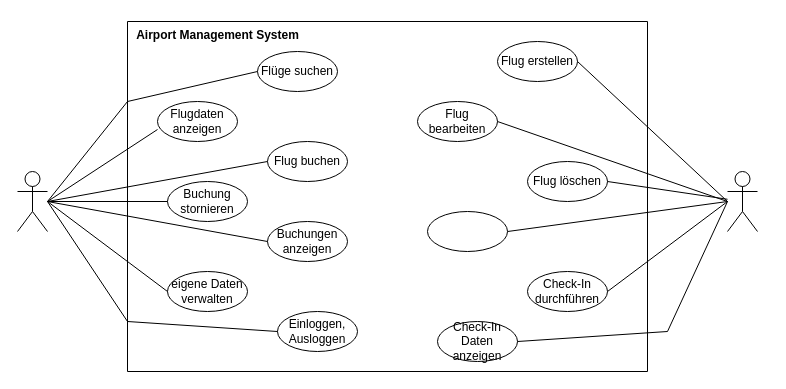
Image size: 786x389. Some labels were removed from this diagram. Each missing label, with the centre of its shape:
Daten verwalten: pixel 467 231
Employee: pixel 742 201
User: pixel 32 201
